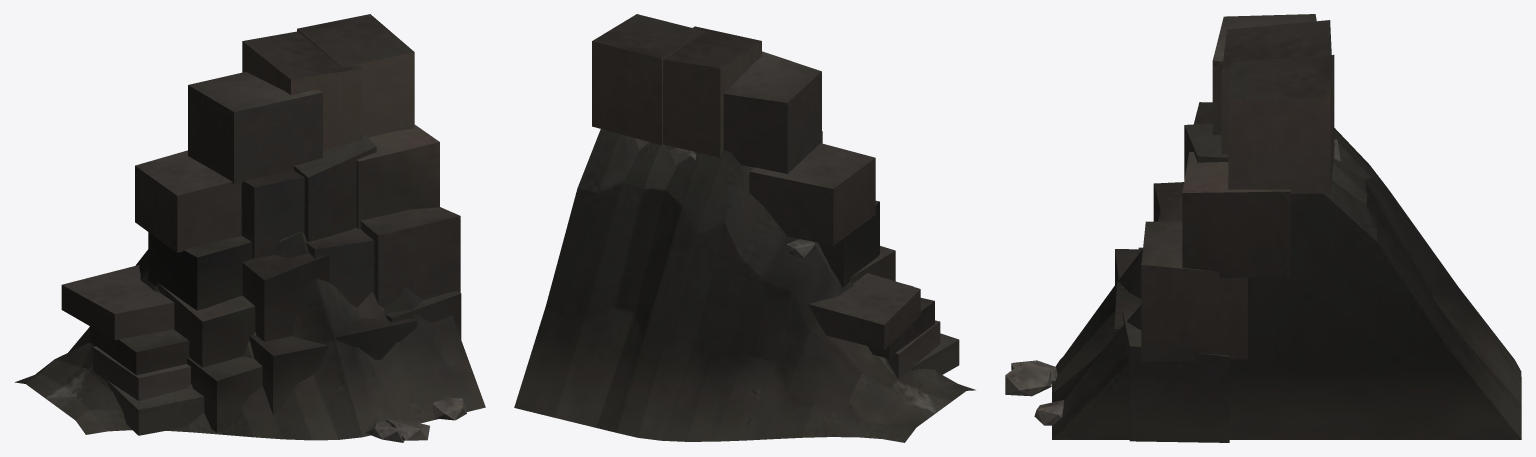
Rendered from cliff-vulcanus-entrance.glb.
3 views of the same model, side by side, from view 1: azimuth 30°, elevation 25°; view 2: azimuth 150°, elevation 25°; view 3: azimuth 270°, elevation 25° (orthographic). The views are drawn at different scales.
Visible parts, largest first — view 1: cliff-vulcanus-entrance; view 2: cliff-vulcanus-entrance; view 3: cliff-vulcanus-entrance.
Part boxes in pixels (x1,y1,x2,y2): cliff-vulcanus-entrance: (15, 14, 485, 442); cliff-vulcanus-entrance: (514, 14, 975, 442); cliff-vulcanus-entrance: (1005, 14, 1521, 442).
Size of the model in its own units: 3.13 by 2.68 by 3.57.
2 materials, 2 textured.
